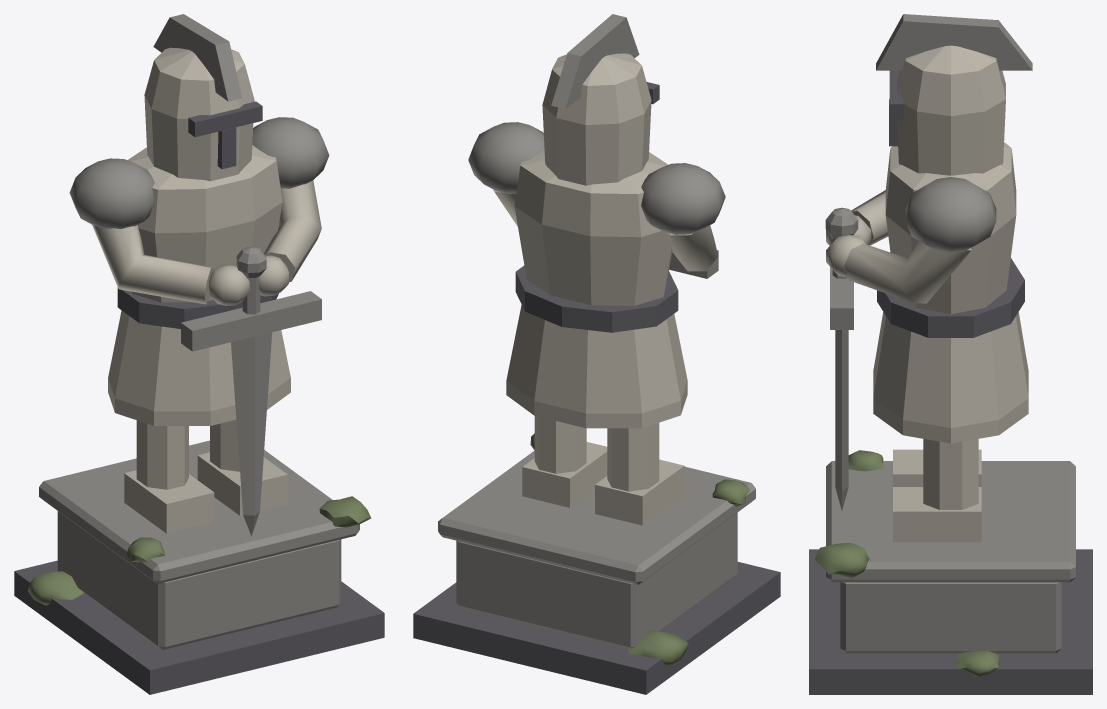
Rendered from guardian.glb.
3 views of the same model, side by side, from view 1: azimuth 30°, elevation 25°; view 2: azimuth 150°, elevation 25°; view 3: azimuth 270°, elevation 25° (orthographic). The views are drawn at different scales.
Visible parts, largest first — view 1: Statue body, Statue plinth, Statue step, Statue sword, Statue arms, Statue head, Statue shoulders, Statue crest, Statue moss, Statue belt, Statue visor; view 2: Statue body, Statue plinth, Statue step, Statue head, Statue shoulders, Statue belt, Statue crest, Statue moss, Statue arms; view 3: Statue plinth, Statue body, Statue step, Statue head, Statue arms, Statue shoulders, Statue crest, Statue sword, Statue belt, Statue moss, Statue visor.
Boxes of the visible parts, x1,y1,x2,y2 form: Statue body: [108, 145, 290, 533]; Statue plinth: [39, 440, 359, 649]; Statue step: [14, 560, 384, 694]; Statue sword: [181, 246, 321, 536]; Statue arms: [92, 180, 321, 305]; Statue head: [144, 47, 254, 181]; Statue shoulders: [69, 117, 329, 228]; Statue crest: [153, 14, 242, 101]; Statue moss: [28, 496, 371, 605]; Statue belt: [117, 287, 278, 328]; Statue visor: [188, 101, 262, 169]; Statue body: [506, 150, 687, 525]; Statue plinth: [438, 450, 755, 648]; Statue step: [413, 562, 780, 694]; Statue head: [542, 53, 651, 185]; Statue shoulders: [468, 122, 725, 234]; Statue belt: [515, 265, 678, 332]; Statue crest: [551, 14, 639, 108]; Statue moss: [530, 433, 749, 666]; Statue arms: [493, 189, 718, 271]; Statue plinth: [826, 461, 1075, 653]; Statue body: [873, 142, 1028, 542]; Statue step: [809, 549, 1092, 694]; Statue head: [897, 45, 1005, 175]; Statue arms: [826, 190, 971, 303]; Statue shoulders: [905, 177, 996, 252]; Statue crest: [876, 14, 1032, 70]; Statue sword: [825, 207, 858, 510]; Statue belt: [877, 258, 1024, 337]; Statue moss: [815, 450, 1000, 676]; Statue visor: [889, 70, 903, 146].
Bounding box in the file's own units: 1.07 × 2.4 × 1.
